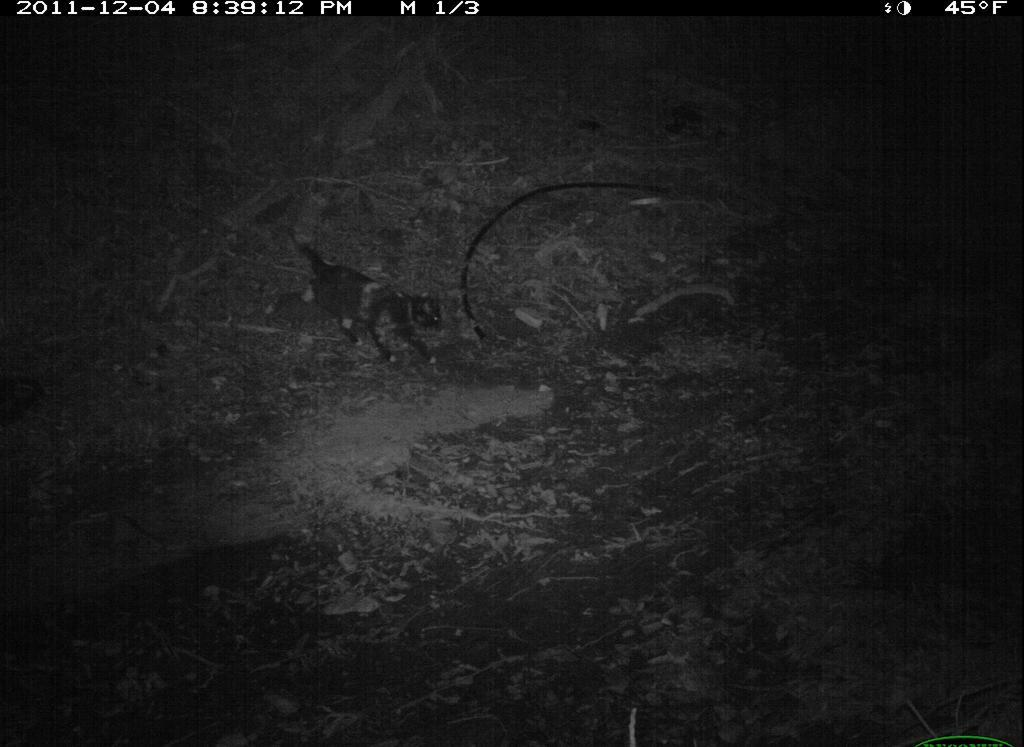cat: (281, 231, 450, 373)
